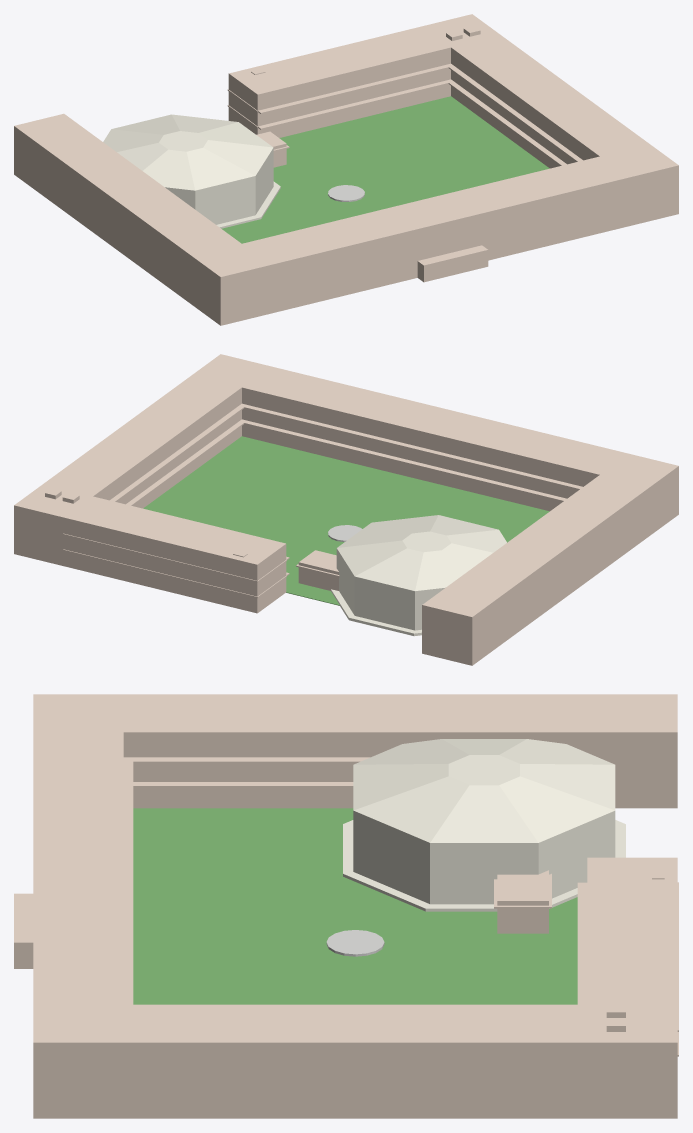
File: cblock_reconstructed.glb
3 views of the same model, one above another, from view 1: azimuth 30°, elevation 25°; view 2: azimuth 150°, elevation 25°; view 3: azimuth 270°, elevation 25° (orthographic). The views are drawn at different scales.
Visible parts, largest first — view 1: SouthWing, Courtyard, NorthWing, WestWing, EastWing, Auditorium, NWCorner, NECorner, ConnectingCorridor, Fountain; view 2: SouthWing, Courtyard, NorthWing, WestWing, EastWing, Auditorium, NWCorner, NECorner, ConnectingCorridor; view 3: Courtyard, EastWing, SouthWing, Auditorium, WestWing, NorthWing, NECorner, NWCorner, ConnectingCorridor, Fountain, RoofEquipment.
Boxes of the visible parts, bbox=[...] form: SouthWing: bbox=[191, 144, 678, 325]; Courtyard: bbox=[221, 96, 549, 243]; NorthWing: bbox=[227, 26, 453, 137]; WestWing: bbox=[43, 135, 241, 304]; EastWing: bbox=[424, 14, 649, 168]; Auditorium: bbox=[103, 114, 280, 228]; NWCorner: bbox=[14, 113, 92, 195]; NECorner: bbox=[422, 14, 500, 46]; ConnectingCorridor: bbox=[256, 131, 289, 167]; Fountain: bbox=[328, 185, 364, 201]; SouthWing: bbox=[192, 354, 678, 535]; Courtyard: bbox=[143, 436, 549, 605]; NorthWing: bbox=[63, 496, 289, 613]; WestWing: bbox=[451, 475, 649, 644]; EastWing: bbox=[16, 375, 246, 516]; Auditorium: bbox=[331, 515, 506, 636]; NWCorner: bbox=[422, 584, 501, 665]; NECorner: bbox=[14, 493, 81, 566]; ConnectingCorridor: bbox=[296, 550, 339, 590]; Courtyard: bbox=[133, 808, 577, 1004]; EastWing: bbox=[123, 1004, 677, 1118]; SouthWing: bbox=[14, 694, 133, 1118]; Auditorium: bbox=[343, 739, 625, 911]; WestWing: bbox=[123, 694, 587, 808]; NorthWing: bbox=[577, 857, 678, 1056]; NECorner: bbox=[587, 1004, 677, 1118]; NWCorner: bbox=[587, 694, 677, 808]; ConnectingCorridor: bbox=[494, 870, 551, 933]; Fountain: bbox=[326, 930, 384, 956]; RoofEquipment: bbox=[606, 870, 664, 1031].
Bounding box in the file's own units: 128 × 14.2 × 103.
